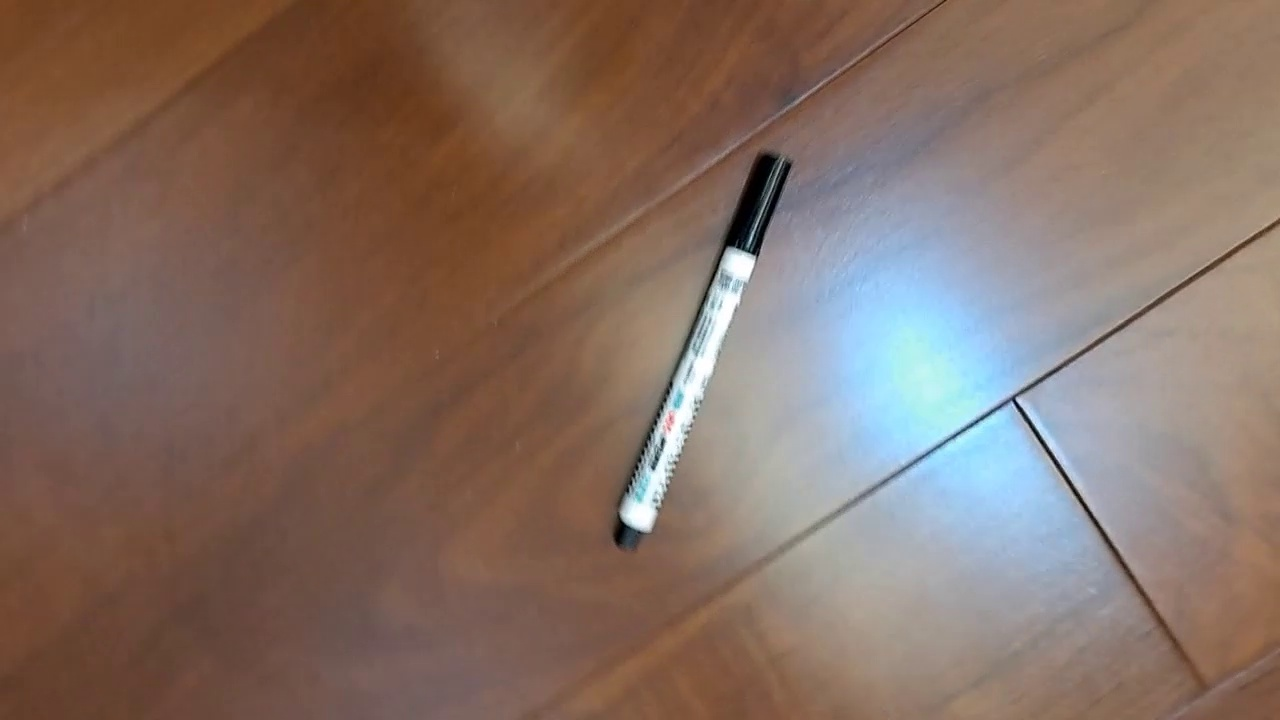pen: (611, 148, 794, 552)
